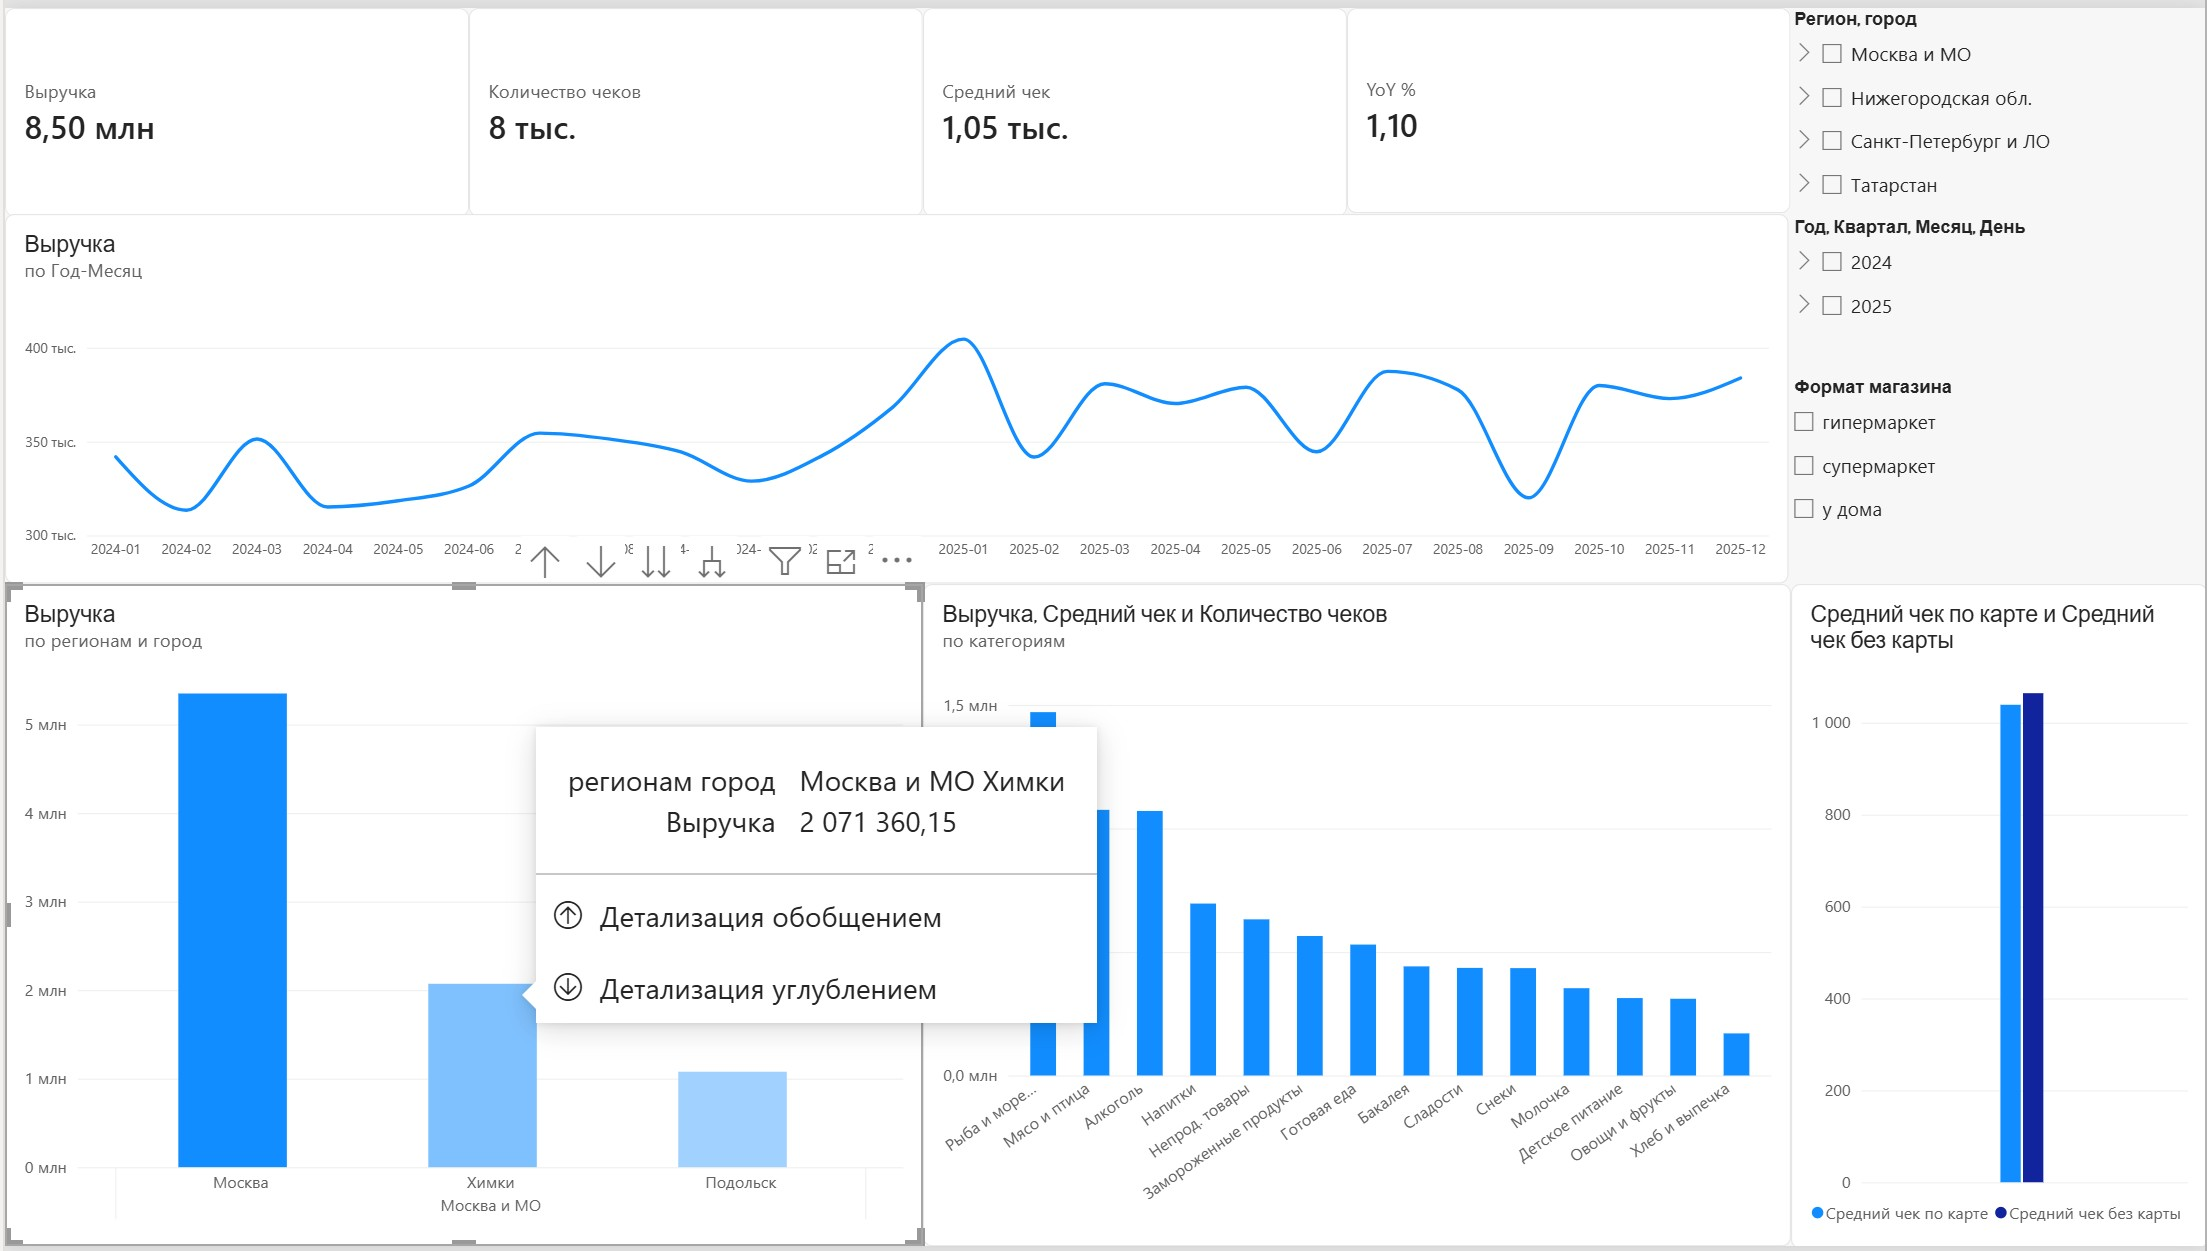

What the dashboard file says about the page in this screenshot:
{"tool":"powerbi","page":{"name":"Страница 1","canvas":[1920,1080],"ordinal":0},"visuals":[{"type":"cardVisual","fields":{"Data":["fact_sales.Выручка"]},"box":[0,0,405,182],"z":0},{"type":"cardVisual","fields":{"Data":["fact_sales.Количество чеков"]},"box":[405,0,396,182],"z":1},{"type":"cardVisual","fields":{"Data":["fact_sales.Средний чек"]},"box":[801,0,370,182],"z":2},{"type":"cardVisual","fields":{"Data":["fact_sales.YoY %"]},"box":[1171,0,387.5,179.7],"z":3},{"type":"lineChart","fields":{"Category":["dim_calendar.Год-Месяц"],"Y":["fact_sales.Выручка"]},"box":[0,179.7,1556.3,322.5],"z":4},{"type":"clusteredColumnChart","fields":{"Category":["dim_stores.регион","dim_stores.город","dim_stores.наименование_магазина"],"Y":["fact_sales.Выручка"]},"box":[0,502.2,800.9,577.9],"z":5},{"type":"columnChart","fields":{"Category":["dim_products.категория"],"Y":["fact_sales.Выручка"]},"box":[800.9,502.2,757.6,577.9],"z":8},{"type":"clusteredColumnChart","fields":{"Y":["fact_sales.Средний чек по карте","fact_sales.Средний чек без карты"]},"box":[1558.5,502.2,363.7,580.1],"z":9},{"type":"slicer","fields":{"Values":["dim_stores.регион","dim_stores.город"]},"box":[1554.2,0,365.8,181.8],"z":10},{"type":"slicer","fields":{"Values":["fact_sales.дата_время.Variation.Иерархия дат.Год","fact_sales.дата_время.Variation.Иерархия дат.Квартал","fact_sales.дата_время.Variation.Иерархия дат.Месяц","fact_sales.дата_время.Variation.Иерархия дат.День"]},"box":[1554.2,181.8,365.8,140.7],"z":11},{"type":"slicer","fields":{"Values":["dim_stores.формат_магазина"]},"box":[1554.2,320.4,365.8,181.8],"z":12}]}

Visuals, with their boxes on the page's 1920x1080 design canvas (x1, y1, x2, y2). These are canvas units, not pixel positions in the 2208x1251 screenshot, which may show the page scaled, cropped or inside an application window:
cardVisual - fact_sales.Выручка: {"left": 0, "top": 0, "right": 405, "bottom": 182}
cardVisual - fact_sales.Количество чеков: {"left": 405, "top": 0, "right": 801, "bottom": 182}
cardVisual - fact_sales.Средний чек: {"left": 801, "top": 0, "right": 1171, "bottom": 182}
cardVisual - fact_sales.YoY %: {"left": 1171, "top": 0, "right": 1558, "bottom": 180}
lineChart - dim_calendar.Год-Месяц x fact_sales.Выручка: {"left": 0, "top": 180, "right": 1556, "bottom": 502}
clusteredColumnChart - dim_stores.регион x dim_stores.город: {"left": 0, "top": 502, "right": 801, "bottom": 1080}
columnChart - dim_products.категория x fact_sales.Выручка: {"left": 801, "top": 502, "right": 1558, "bottom": 1080}
clusteredColumnChart - fact_sales.Средний чек по карте x fact_sales.Средний чек без карты: {"left": 1558, "top": 502, "right": 1922, "bottom": 1082}
slicer - dim_stores.регион x dim_stores.город: {"left": 1554, "top": 0, "right": 1920, "bottom": 182}
slicer - fact_sales.дата_время.Variation.Иерархия дат.Год x fact_sales.дата_время.Variation.Иерархия дат.Квартал: {"left": 1554, "top": 182, "right": 1920, "bottom": 322}
slicer - dim_stores.формат_магазина: {"left": 1554, "top": 320, "right": 1920, "bottom": 502}
